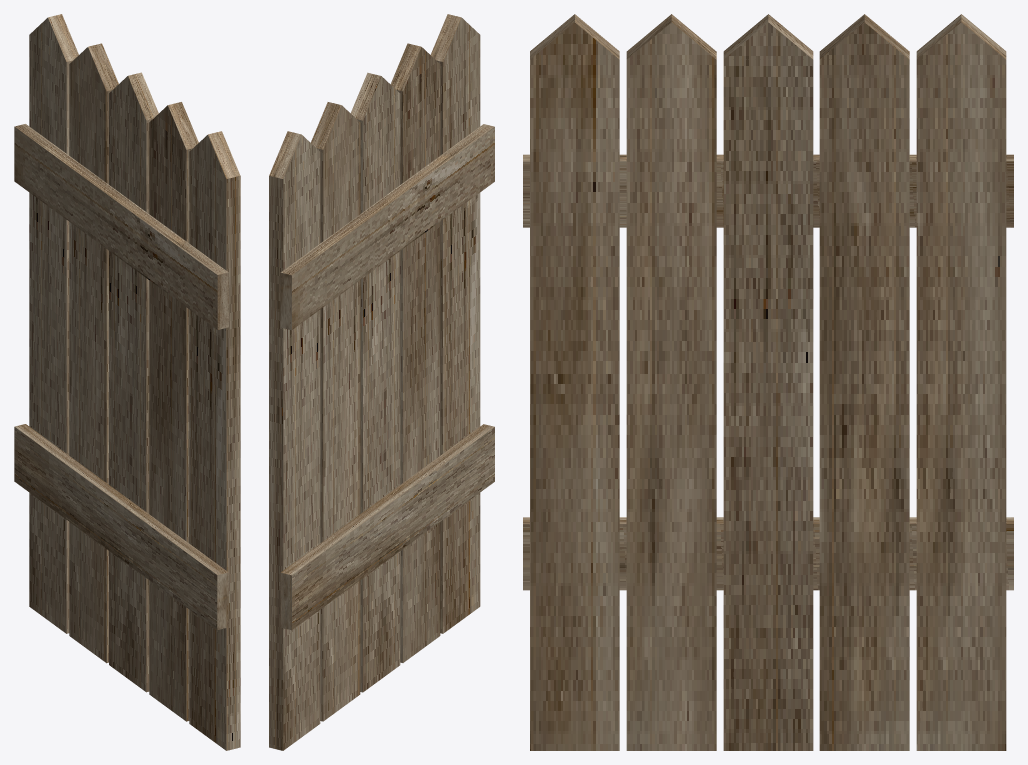
Rendered from picket_fence_tall.gltf.
The picture shows the model from 3 angles, left to right: view 1: azimuth 30°, elevation 25°; view 2: azimuth 150°, elevation 25°; view 3: azimuth 270°, elevation 25°; orthographic projection. The views are drawn at different scales.
Parts seen in each view (by area): view 1: Plank4, Plank5, Plank3, Plank1, Plank2, CrossBoard-col, CrossBoard.001-col; view 2: Plank5, Plank2, Plank3, Plank4, Plank1, CrossBoard-col, CrossBoard.001-col; view 3: Plank2, Plank3, Plank5, Plank1, Plank4, CrossBoard-col, CrossBoard.001-col.
Boxes of the visible parts, x1,y1,x2,y2 form: Plank4: (189, 131, 240, 750); Plank5: (29, 14, 78, 633); Plank3: (149, 102, 198, 721); Plank1: (109, 72, 158, 692); Plank2: (69, 43, 118, 663); CrossBoard-col: (14, 124, 228, 329); CrossBoard.001-col: (14, 424, 228, 629); Plank5: (269, 131, 320, 750); Plank2: (310, 102, 360, 721); Plank3: (390, 43, 440, 662); Plank4: (430, 14, 480, 633); Plank1: (350, 72, 400, 692); CrossBoard-col: (280, 124, 494, 330); CrossBoard.001-col: (280, 424, 494, 630); Plank2: (819, 14, 909, 750); Plank3: (626, 14, 716, 750); Plank5: (916, 14, 1006, 750); Plank1: (723, 14, 813, 750); Plank4: (530, 14, 619, 750); CrossBoard-col: (523, 154, 1013, 227); CrossBoard.001-col: (523, 517, 1013, 590).
Bounding box in the file's own units: 0.1709 × 3.81 × 2.33.
Materials: 1 (1 with a texture image).
